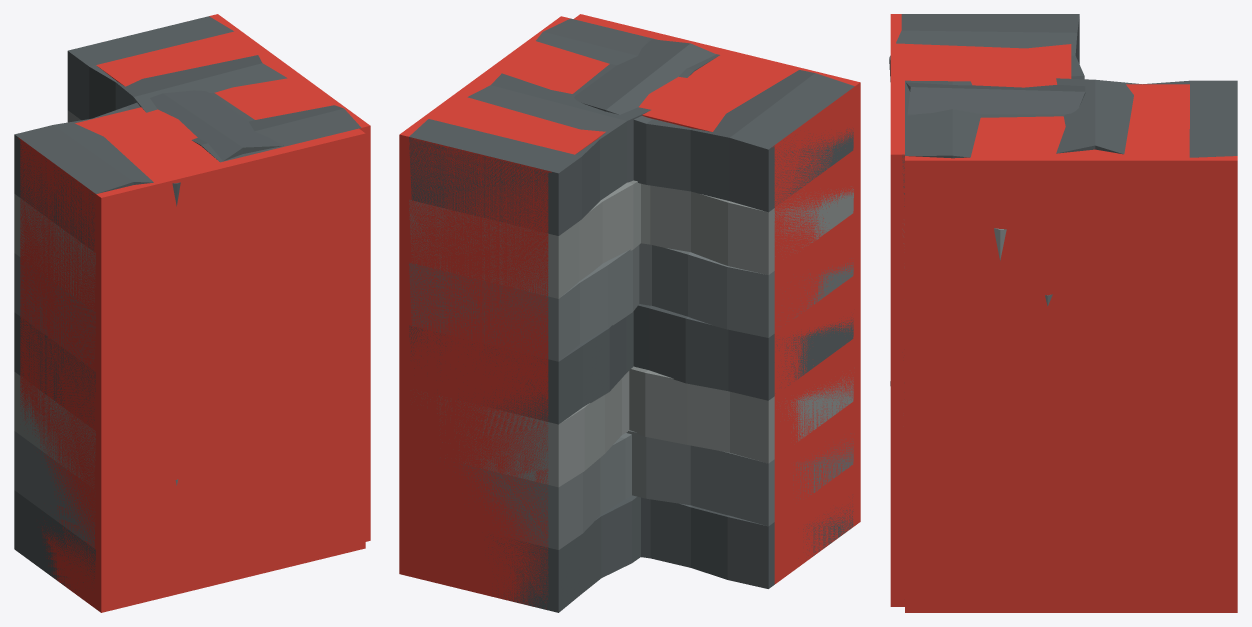
Rendered from ironwind_cliff_outer_corner.glb.
3 views of the same model, side by side, from view 1: azimuth 30°, elevation 25°; view 2: azimuth 150°, elevation 25°; view 3: azimuth 270°, elevation 25° (orthographic). The views are drawn at different scales.
Visible parts, largest first — view 1: ironwind_cliff_outer_corner_wall_x, ironwind_cliff_outer_corner_lod0, ironwind_cliff_outer_corner_walkable_x, ironwind_cliff_outer_corner_wall_y, ironwind_cliff_outer_corner_walkable_y; view 2: ironwind_cliff_outer_corner_lod0, ironwind_cliff_outer_corner_wall_y, ironwind_cliff_outer_corner_wall_x, ironwind_cliff_outer_corner_walkable_x, ironwind_cliff_outer_corner_walkable_y; view 3: ironwind_cliff_outer_corner_wall_y, ironwind_cliff_outer_corner_lod0, ironwind_cliff_outer_corner_wall_x, ironwind_cliff_outer_corner_walkable_x, ironwind_cliff_outer_corner_walkable_y.
Boxes of the visible parts, x1,y1,x2,y2 form: ironwind_cliff_outer_corner_wall_x: [20, 95, 365, 612]; ironwind_cliff_outer_corner_lod0: [14, 16, 361, 591]; ironwind_cliff_outer_corner_walkable_x: [18, 72, 326, 193]; ironwind_cliff_outer_corner_wall_y: [100, 14, 370, 541]; ironwind_cliff_outer_corner_walkable_y: [96, 33, 327, 137]; ironwind_cliff_outer_corner_lod0: [409, 18, 854, 612]; ironwind_cliff_outer_corner_wall_y: [399, 16, 579, 608]; ironwind_cliff_outer_corner_wall_x: [530, 14, 860, 584]; ironwind_cliff_outer_corner_walkable_x: [493, 43, 853, 147]; ironwind_cliff_outer_corner_walkable_y: [411, 44, 676, 172]; ironwind_cliff_outer_corner_wall_y: [905, 86, 1237, 612]; ironwind_cliff_outer_corner_lod0: [889, 14, 1237, 385]; ironwind_cliff_outer_corner_wall_x: [890, 14, 1067, 606]; ironwind_cliff_outer_corner_walkable_x: [905, 44, 1071, 154]; ironwind_cliff_outer_corner_walkable_y: [972, 84, 1189, 154].
Size of what is drawn, in the model's own units: 8.39 by 12.19 by 8.38.
